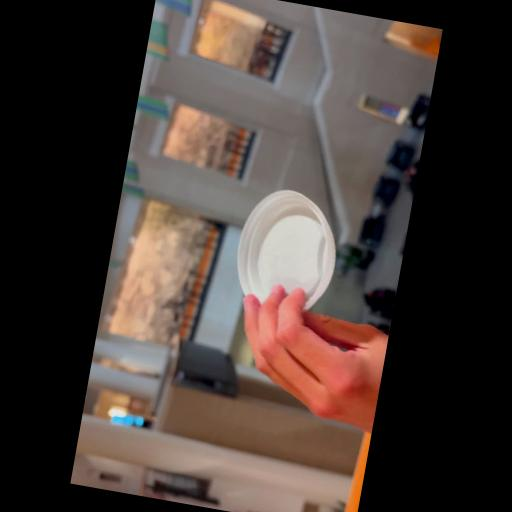lp_cup_lids: (226, 180, 350, 318)
